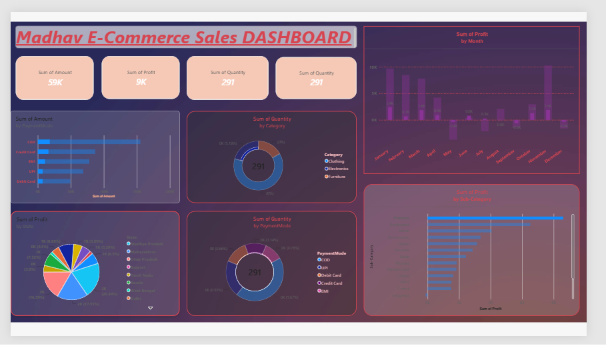

What the dashboard file says about the page in this screenshot:
{"tool":"powerbi","page":{"name":"Page 1","canvas":[1920,1080],"ordinal":0},"visuals":[{"type":"columnChart","fields":{"Category":["Orders.Order Date.Variation.Date Hierarchy.Month"],"Y":["Sum(Details.Profit)"]},"box":[1176.7,46.7,720,493.3],"z":0},{"type":"barChart","fields":{"Category":["Details.Sub-Category"],"Y":["Sum(Details.Profit)"]},"box":[1176.7,573.3,720,440],"z":1000},{"type":"donutChart","fields":{"Category":["Details.Category"],"Y":["Sum(Details.Quantity)"]},"box":[586.7,330,566.7,306.7],"z":2000},{"type":"donutChart","fields":{"Category":["Details.PaymentMode"],"Y":["Sum(Details.Quantity)"]},"box":[586.7,663.3,566.7,350],"z":3000},{"type":"cardVisual","fields":{"Data":["Sum(Details.Amount)"]},"box":[16.7,146.7,260,146.7],"z":4000},{"type":"cardVisual","fields":{"Data":["Sum(Details.Profit)"]},"box":[303.3,146.7,260,143.3],"z":5000},{"type":"cardVisual","fields":{"Data":["Sum(Details.Quantity)"]},"box":[586.7,146.7,273.3,146.7],"z":6000},{"type":"cardVisual","fields":{"Data":["Sum(Details.Quantity)"]},"box":[883.3,150,270,140],"z":7000},{"type":"textbox","box":[16.7,46.7,1136.7,73.3],"z":8000},{"type":"clusteredBarChart","fields":{"Category":["Details.PaymentMode"],"Y":["Sum(Details.Amount)"]},"box":[0,330,563.3,306.7],"z":8001},{"type":"pieChart","fields":{"Category":["Orders.State"],"Y":["Sum(Details.Profit)"]},"box":[0,663,563,350],"z":8002}]}

Visuals, with their boxes in screenshot pixels (x1, y1, x2, y2), scaled from the page's 1920x1080 canvas onto the 606x345 screenshot:
columnChart - Orders.Order Date.Variation.Date Hierarchy.Month x Sum(Details.Profit): {"x1": 371, "y1": 15, "x2": 599, "y2": 172}
barChart - Details.Sub-Category x Sum(Details.Profit): {"x1": 371, "y1": 183, "x2": 599, "y2": 324}
donutChart - Details.Category x Sum(Details.Quantity): {"x1": 185, "y1": 105, "x2": 364, "y2": 203}
donutChart - Details.PaymentMode x Sum(Details.Quantity): {"x1": 185, "y1": 212, "x2": 364, "y2": 324}
cardVisual - Sum(Details.Amount): {"x1": 5, "y1": 47, "x2": 87, "y2": 94}
cardVisual - Sum(Details.Profit): {"x1": 96, "y1": 47, "x2": 178, "y2": 93}
cardVisual - Sum(Details.Quantity): {"x1": 185, "y1": 47, "x2": 271, "y2": 94}
cardVisual - Sum(Details.Quantity): {"x1": 279, "y1": 48, "x2": 364, "y2": 93}
textbox: {"x1": 5, "y1": 15, "x2": 364, "y2": 38}
clusteredBarChart - Details.PaymentMode x Sum(Details.Amount): {"x1": 0, "y1": 105, "x2": 178, "y2": 203}
pieChart - Orders.State x Sum(Details.Profit): {"x1": 0, "y1": 212, "x2": 178, "y2": 324}
